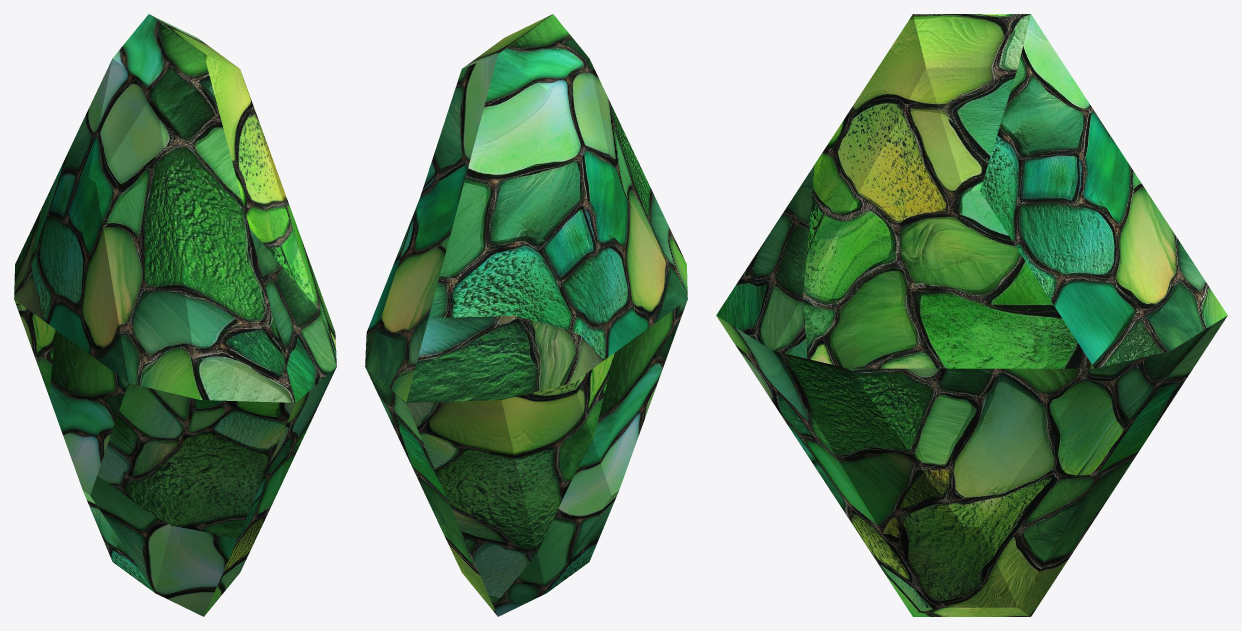
The model's file is gemstone7GreenCompressed.glb.
3 renders of one model, left to right at view 1: azimuth 30°, elevation 25°; view 2: azimuth 150°, elevation 25°; view 3: azimuth 270°, elevation 25°, orthographic. The views are drawn at different scales.
Visible parts, largest first — view 1: gemstone6; view 2: gemstone6; view 3: gemstone6.
Part boxes in pixels (x1=…): gemstone6: x1=14, y1=14, x2=336, y2=616; gemstone6: x1=365, y1=14, x2=687, y2=616; gemstone6: x1=716, y1=14, x2=1227, y2=616.
Bounding box in the file's own units: 0.5 × 1.3 × 1.
Materials: 1 (1 with a texture image).
